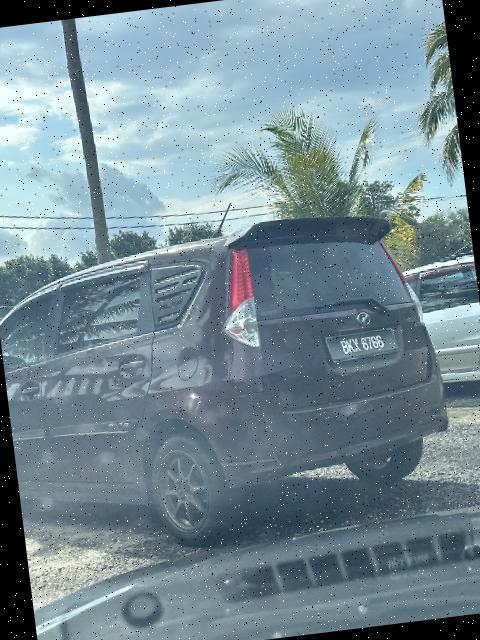BKX6766: (320, 320, 408, 370)
License_Plate: (320, 320, 408, 370)
car: (1, 190, 476, 572)
